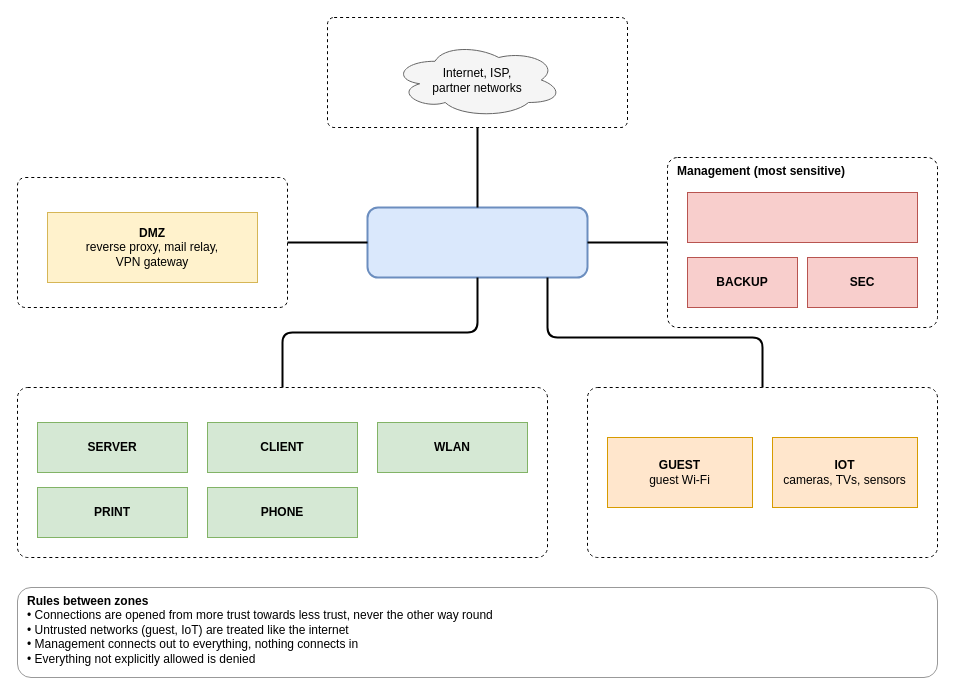
The diagram is 955 pixels wide and 695 high, and some of its shapes have lost their labels. Here are the shapes that lost their labels. From the top down, the box of each, then its label:
(326, 16, 628, 128): External (untrusted)
(686, 192, 918, 242): MGMT
(16, 176, 288, 308): DMZ (low trust)
(366, 206, 588, 278): Firewall (or HA cluster) default deny between all zones
(16, 386, 548, 558): Internal (trusted)
(586, 386, 938, 558): Untrusted internal
